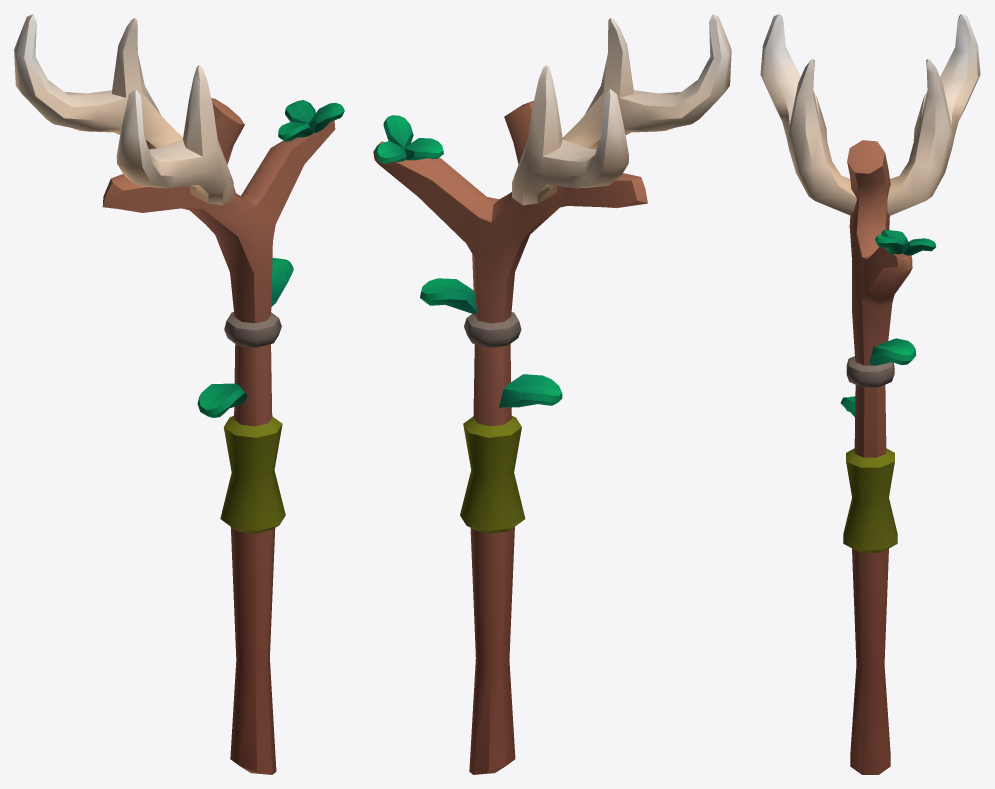
Rendered from druid_staff.obj.
3 views of the same model, side by side, from view 1: azimuth 30°, elevation 25°; view 2: azimuth 150°, elevation 25°; view 3: azimuth 270°, elevation 25° (orthographic). The views are drawn at different scales.
Visible parts, largest first — view 1: druid_staff; view 2: druid_staff; view 3: druid_staff.
Part boxes in pixels (x1,y1,x2,y2): druid_staff: (14, 14, 344, 774); druid_staff: (373, 14, 731, 774); druid_staff: (760, 14, 980, 774).
Bounding box in the file's own units: 0.8741 × 2.26 × 0.6621.
1 material, 1 textured.
